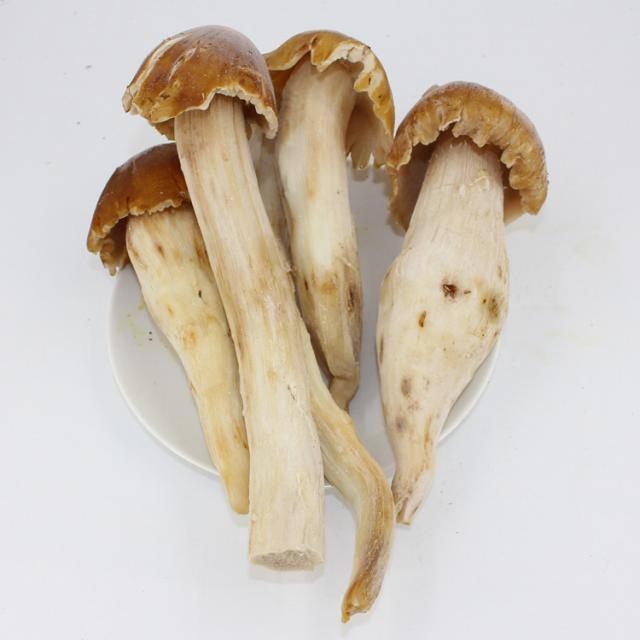Collybia albuminosa: (123, 23, 326, 572), (380, 80, 545, 527), (89, 146, 249, 512), (265, 29, 389, 405)
